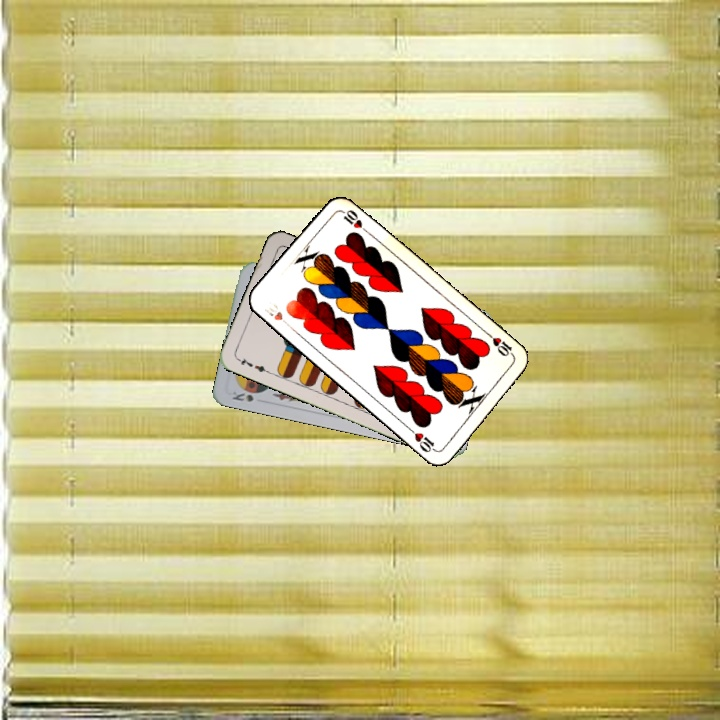E7: (233, 354, 272, 376)
H10: (260, 298, 293, 330), (483, 329, 517, 360)
SK: (228, 387, 256, 405)
